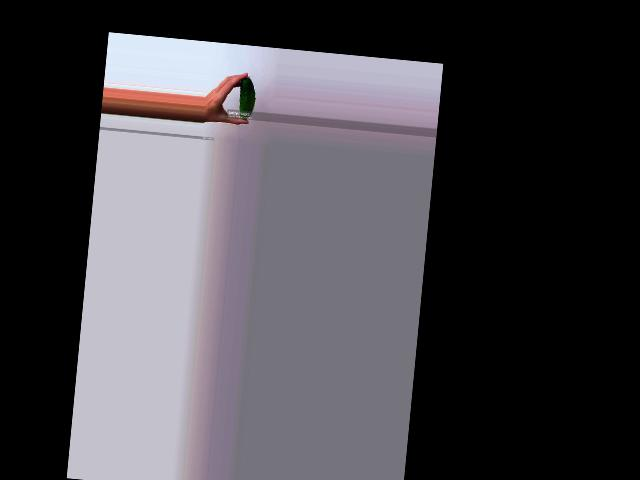cucumber: (237, 77, 257, 120)
